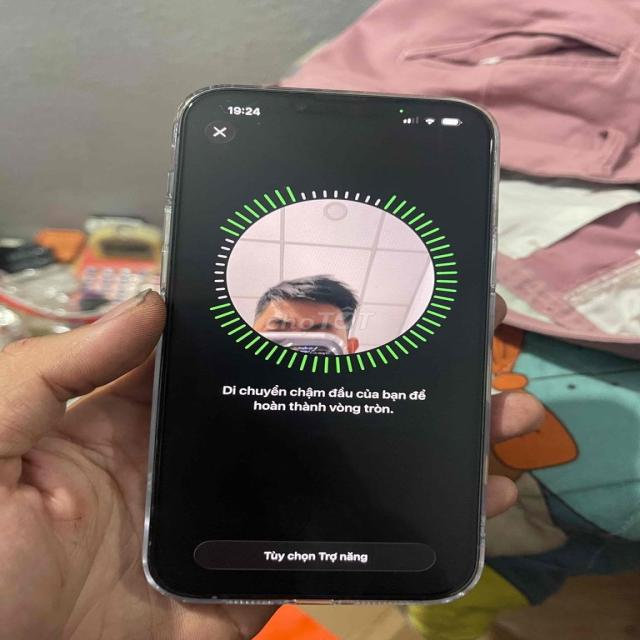gen_12_13: (137, 73, 500, 611)
